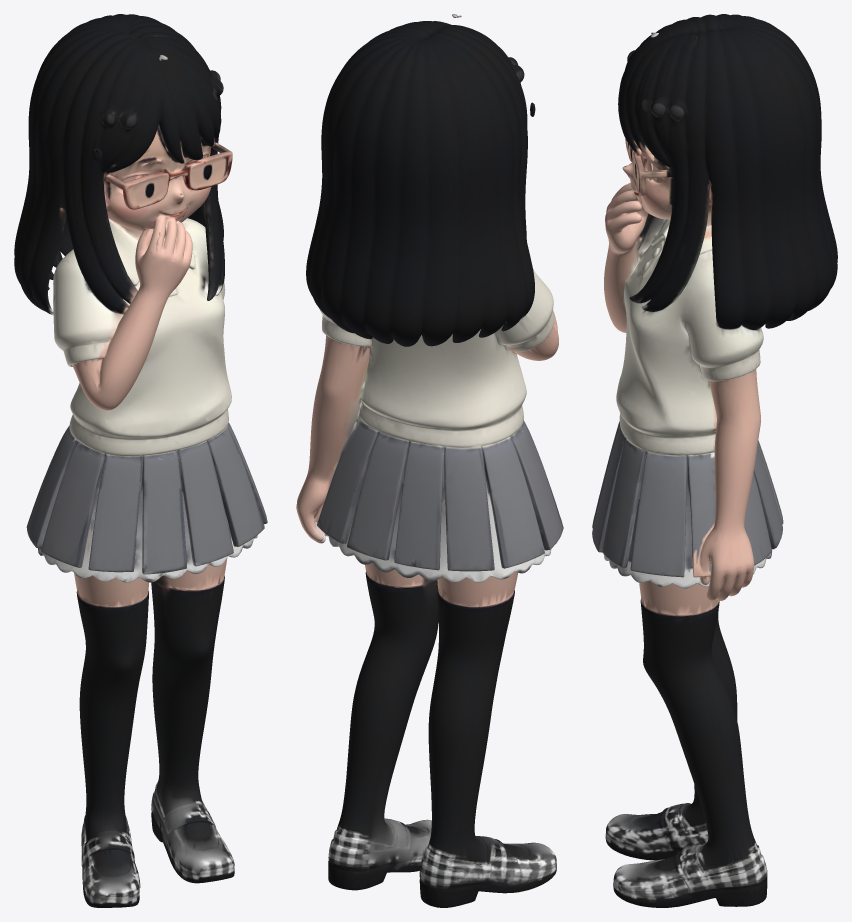
File: rin-avatar.glb
The picture shows the model from 3 angles, left to right: view 1: azimuth 30°, elevation 25°; view 2: azimuth 150°, elevation 25°; view 3: azimuth 270°, elevation 25°; orthographic projection. The views are drawn at different scales.
Parts seen in each view (by area): view 1: node_0; view 2: node_0; view 3: node_0.
Boxes of the visible parts, x1,y1,x2,y2 form: node_0: [14, 14, 267, 907]; node_0: [296, 14, 563, 907]; node_0: [592, 14, 837, 907].
Bounding box in the file's own units: 0.3276 × 1.16 × 0.3055.
Materials: 1 (1 with a texture image).
